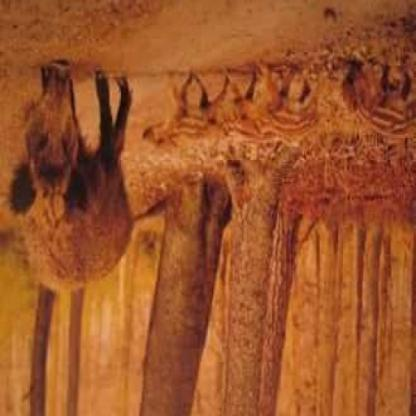boar: (3, 44, 135, 305), (140, 56, 214, 175), (342, 56, 415, 143), (233, 76, 316, 143), (197, 84, 225, 143)
